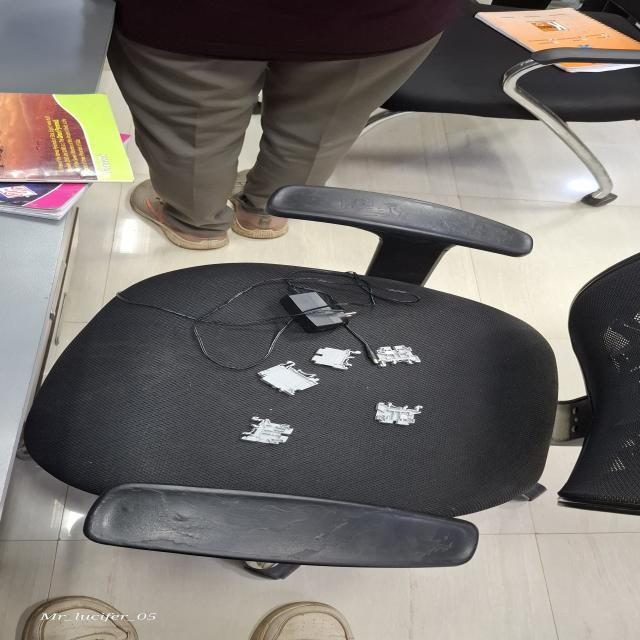Inverted: (309, 346, 362, 370)
Pass: (369, 342, 423, 368)
Reject: (238, 416, 296, 446), (366, 402, 430, 427)
